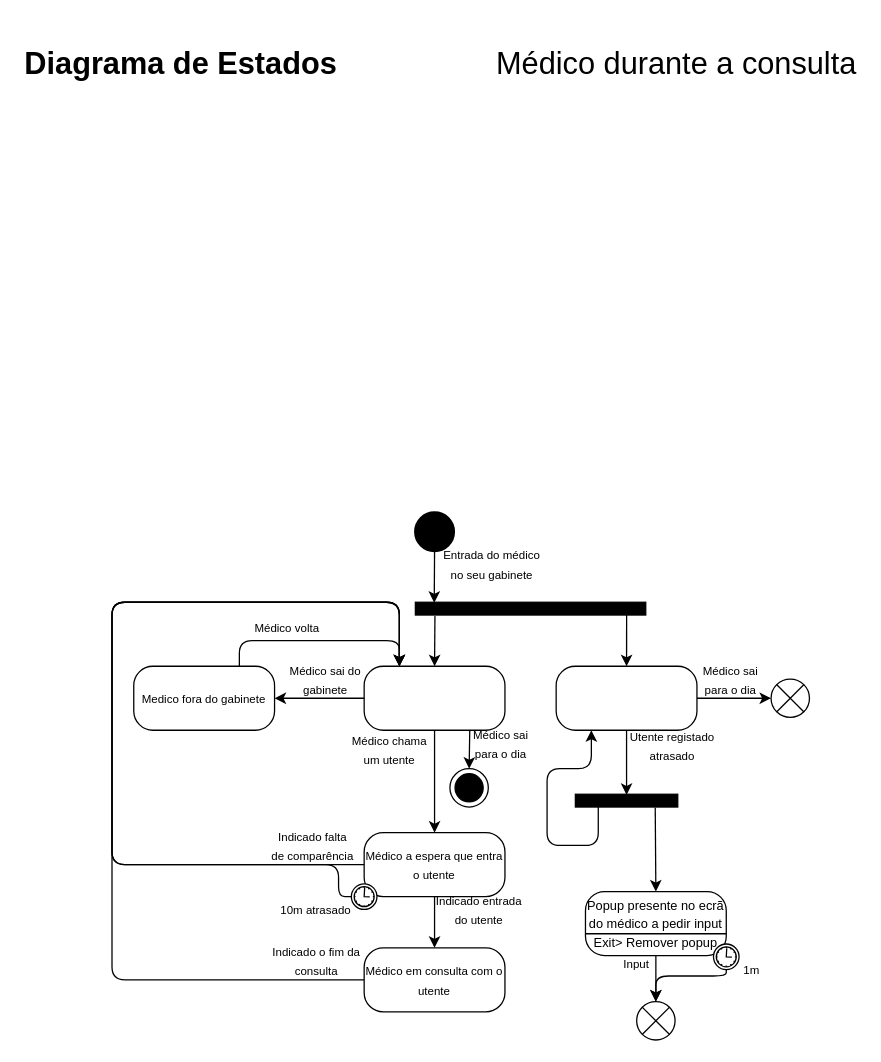
Some shapes in this 881 by 1062 pixel diagram are drawn without their labels. Each missing label, with the centre of its shape:
"Médico a espera de registros de utentes" goes at [434,697].
"Sistema a espera de utentes que cheguem atrasados" goes at [626,697].
